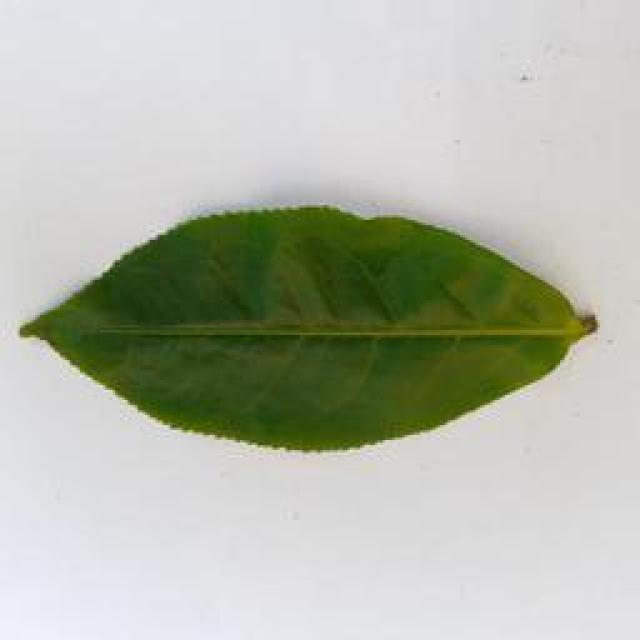Healthy: (16, 210, 591, 454)
